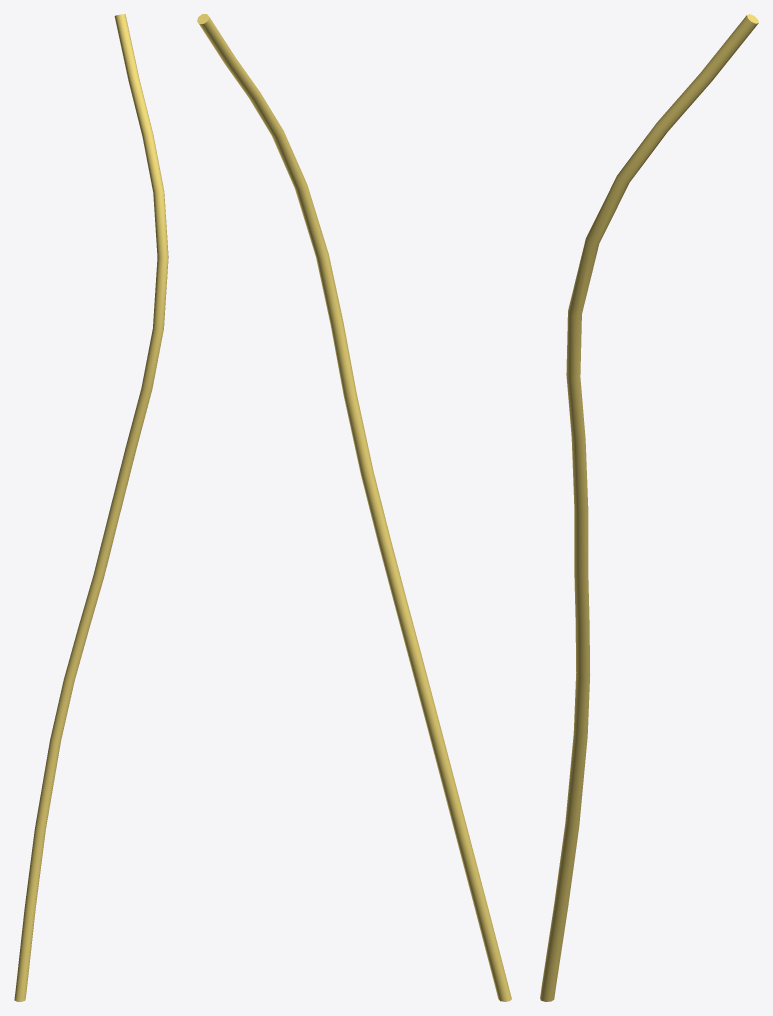
File: nerf-radial-superficiel.glb
3 renders of one model, left to right at view 1: azimuth 30°, elevation 25°; view 2: azimuth 150°, elevation 25°; view 3: azimuth 270°, elevation 25°, orthographic. The views are drawn at different scales.
Visible parts, largest first — view 1: nerf-radial-superficiel; view 2: nerf-radial-superficiel; view 3: nerf-radial-superficiel.
Part boxes in pixels (x1,y1,x2,y2): nerf-radial-superficiel: (14,14,168,1001); nerf-radial-superficiel: (197,14,511,1001); nerf-radial-superficiel: (540,14,758,1001).
Bounding box in the file's own units: 0.0286 × 0.1251 × 0.0227.
